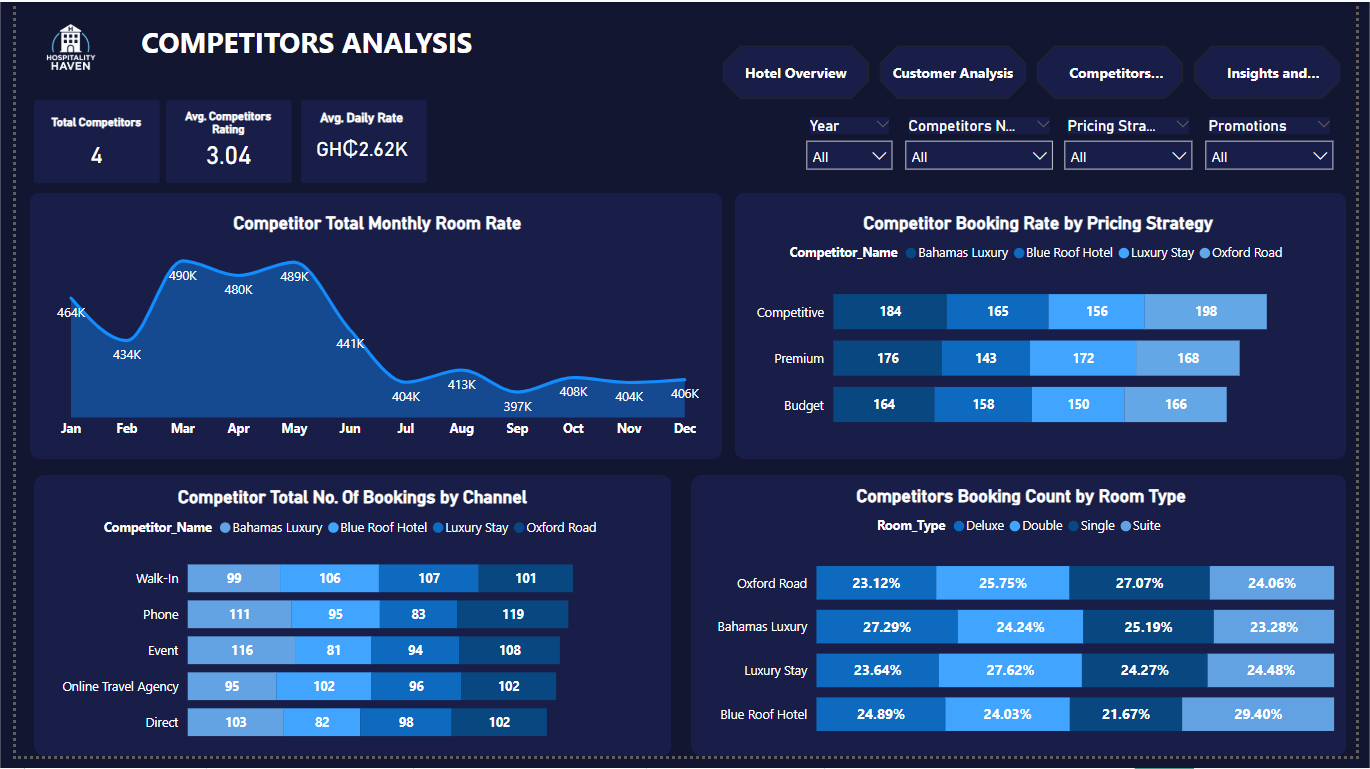

What the dashboard file says about the page in this screenshot:
{"tool":"powerbi","page":{"name":"Competitors Analysis","canvas":[1280,720],"ordinal":2},"visuals":[{"type":"shape","box":[272.2,93.1,120.3,80.2],"z":0},{"type":"shape","box":[143.2,93.1,120.3,80.2],"z":1000},{"type":"shape","box":[17.2,93.1,120.3,80.2],"z":2000},{"type":"shape","box":[17.2,451.2,608.8,269.3],"z":3000},{"type":"shape","box":[644.6,451.2,626,269.3],"z":4000},{"type":"shape","box":[12.9,181.9,661.8,255],"z":5000},{"type":"shape","box":[686.1,181.9,584.4,255],"z":6000},{"type":"card","title":"Total Competitors","fields":{"Values":["MeasuresTable.Total Competitors"]},"box":[24.4,108.9,104.6,60.2],"z":7000},{"type":"card","title":"Avg. Competitors Rating","fields":{"Values":["Avg(Competitortable.Competitor_Rating)"]},"box":[150.4,103.1,104.6,60.2],"z":8000},{"type":"card","title":"Avg. Daily Rate","fields":{"Values":["MeasuresTable.Avg Competitor daily rate"]},"box":[277.9,103.1,104.6,60.2],"z":9000},{"type":"stackedAreaChart","title":"Competitor Total Monthly Room Rate ","fields":{"Category":["DateTable.Month Name"],"Y":["Sum(Competitortable.Competitor_Room_Rate)"]},"box":[25.8,200.5,638.8,224.9],"z":10000},{"type":"barChart","title":"Competitor Total No. Of Bookings by Channel","fields":{"Y":["MeasuresTable.Bookings Count"],"Series":["Competitortable.Competitor_Name"],"Category":["Channeltable.Booking_Channel"]},"box":[28.6,462.3,585.3,257.7],"z":11000},{"type":"hundredPercentStackedBarChart","title":"Competitors Booking Count by Room Type","fields":{"Y":["MeasuresTable.Bookings Count"],"Category":["Competitortable.Competitor_Name"],"Series":["Bookingtable.Room_Type"]},"box":[655.3,461.3,607.6,257.7],"z":12000},{"type":"barChart","title":"Competitor Booking Rate by Pricing Strategy","fields":{"Category":["Competitortable.Competitor_Pricing_Strategy"],"Y":["MeasuresTable.Bookings Count"],"Series":["Competitortable.Competitor_Name"]},"box":[696.1,200.5,560.1,224.9],"z":13000},{"type":"slicer","fields":{"Values":["Competitortable.Competitor_Promotions"]},"box":[1125.9,104.6,141.8,68.8],"z":14000},{"type":"slicer","fields":{"Values":["Competitortable.Competitor_Pricing_Strategy"]},"box":[991.2,104.6,141.8,68.8],"z":15000},{"type":"slicer","fields":{"Values":["Competitortable.Competitor_Name"]},"box":[839.4,104.6,160.4,68.8],"z":16000},{"type":"slicer","fields":{"Values":["DateTable.Year"]},"box":[744.8,104.6,101.7,68.8],"z":17000},{"type":"textbox","box":[114.6,14.3,511.4,53],"z":18000},{"type":"pageNavigator","box":[674.7,41.5,593,51.6],"z":19000},{"type":"image","box":[17.5,8,70,68.4],"z":20000}]}

Visuals, with their boxes in screenshot pixels (x1, y1, x2, y2), scaled from the page's 1280x720 canvas onto the 1370x769 screenshot:
shape: [291, 99, 420, 185]
shape: [153, 99, 282, 185]
shape: [18, 99, 147, 185]
shape: [18, 482, 670, 768]
shape: [690, 482, 1360, 768]
shape: [14, 194, 722, 467]
shape: [734, 194, 1360, 467]
"Total Competitors" card: [26, 116, 138, 181]
"Avg. Competitors Rating" card: [161, 110, 273, 174]
"Avg. Daily Rate" card: [297, 110, 409, 174]
"Competitor Total Monthly Room Rate " stackedAreaChart: [28, 214, 711, 454]
"Competitor Total No. Of Bookings by Channel" barChart: [31, 494, 657, 768]
"Competitors Booking Count by Room Type" hundredPercentStackedBarChart: [701, 493, 1352, 768]
"Competitor Booking Rate by Pricing Strategy" barChart: [745, 214, 1345, 454]
slicer - Competitortable.Competitor_Promotions: [1205, 112, 1357, 185]
slicer - Competitortable.Competitor_Pricing_Strategy: [1061, 112, 1213, 185]
slicer - Competitortable.Competitor_Name: [898, 112, 1070, 185]
slicer - DateTable.Year: [797, 112, 906, 185]
textbox: [123, 15, 670, 72]
pageNavigator: [722, 44, 1357, 99]
image: [19, 9, 94, 82]
